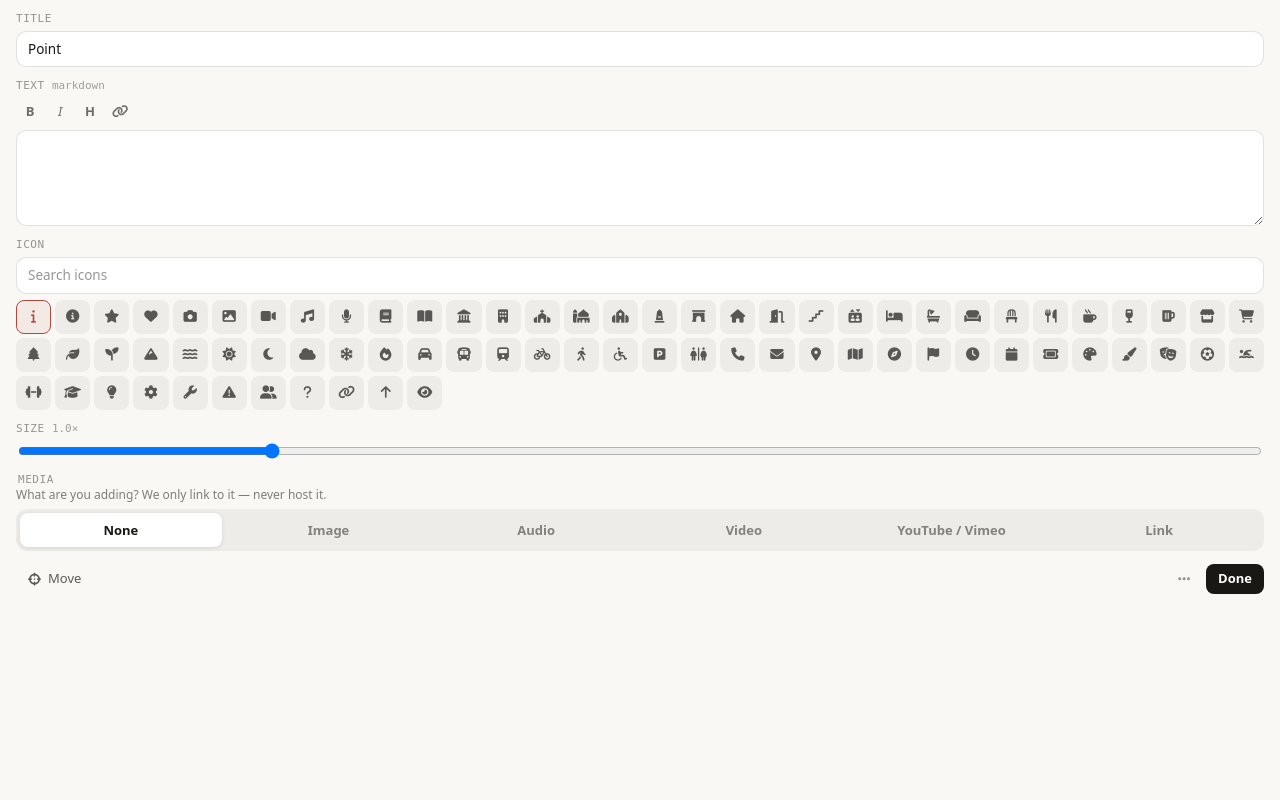
Test: PointEditor move, and the point menu › keeps Duplicate and Delete behind a ⋯ menu
Expected: the button "Duplicate" is not shown
Expected: the button "Delete" is not shown
What coordinates should you click on to do the following:
click the button named "Point actions"
I would click on:
 (1184, 579)
Its box is [1168,563,1200,595].
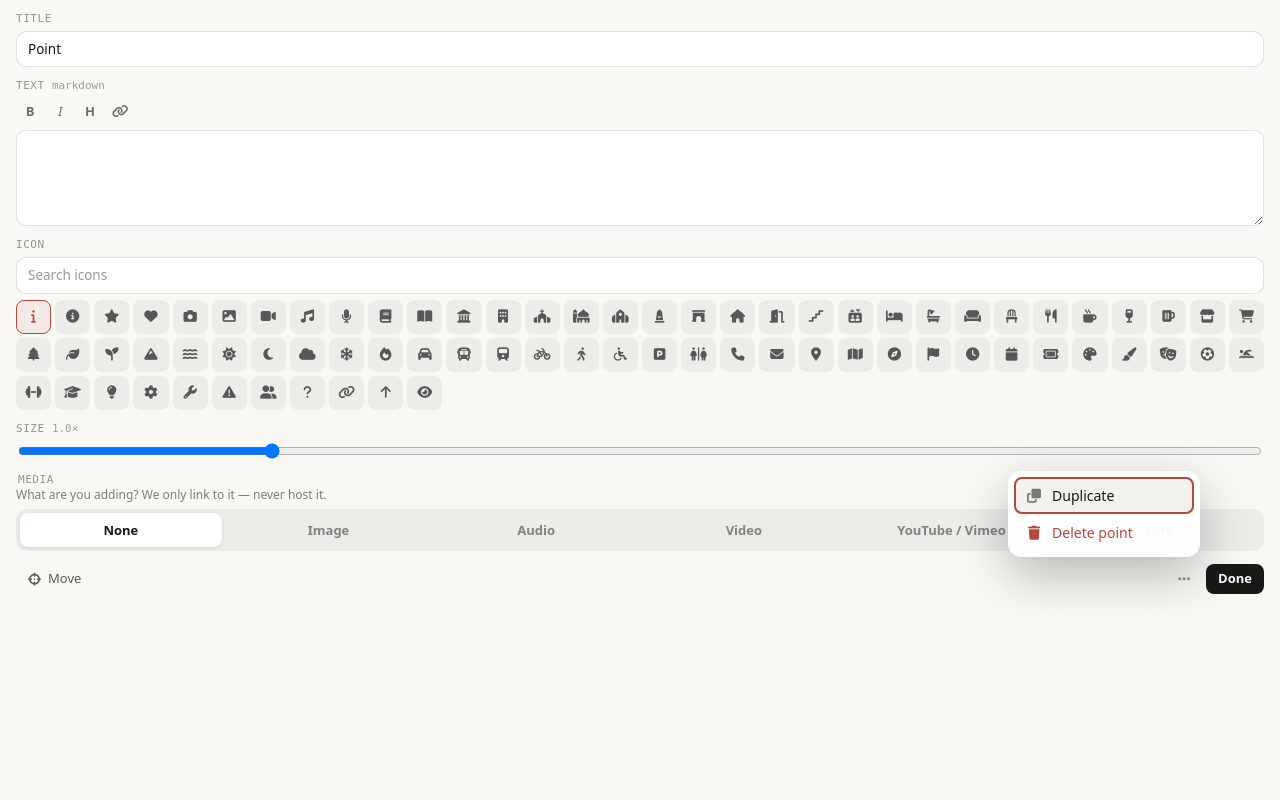
Expected: the button named "Point actions" is expanded, [1168,563,1200,595]
Expected: the menu items read "Duplicate", "Delete point", in this order
What coordinates should you click on to do the following:
click the menu item "Duplicate"
I would click on:
 (1104, 496)
Its box is [1014,477,1194,514].
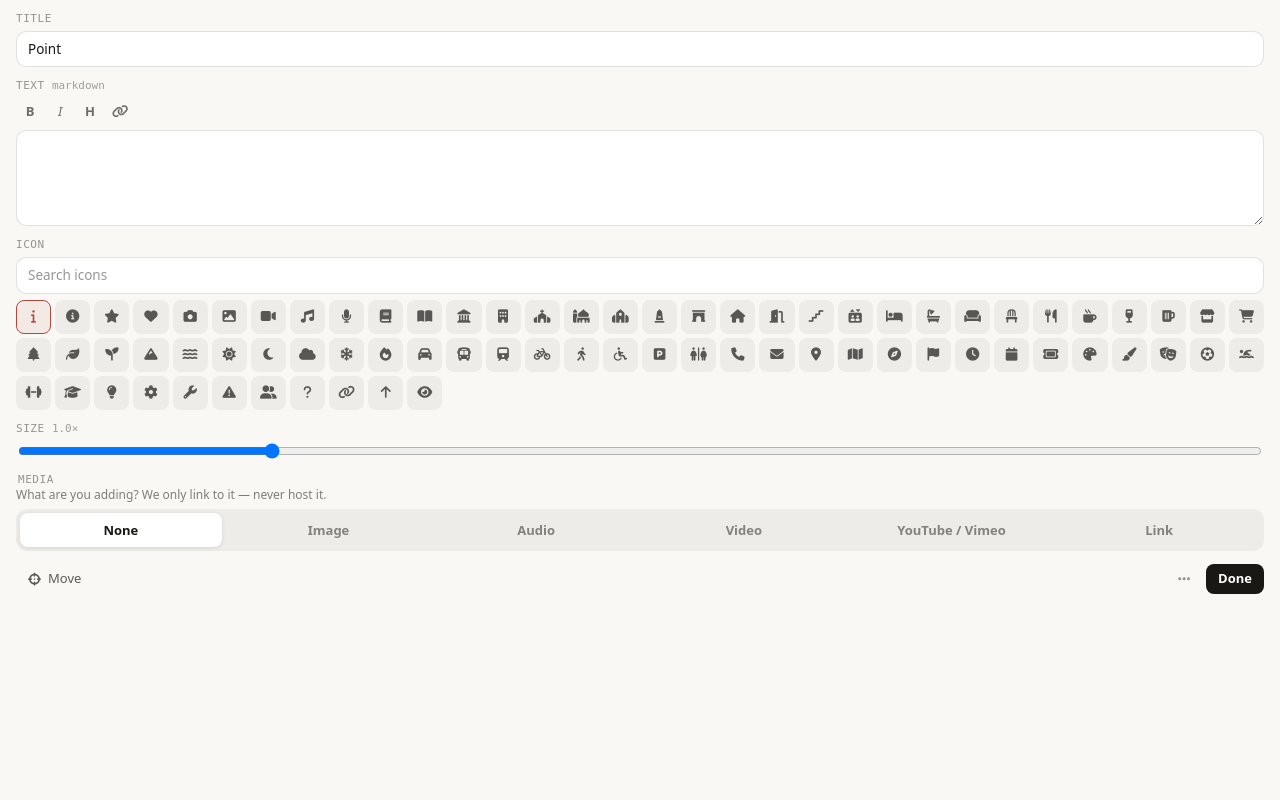
Expected: the menu is gone
What coordinates should you click on to do the following:
click the button named "Point actions"
I would click on:
 (1184, 579)
Its box is [1168,563,1200,595].
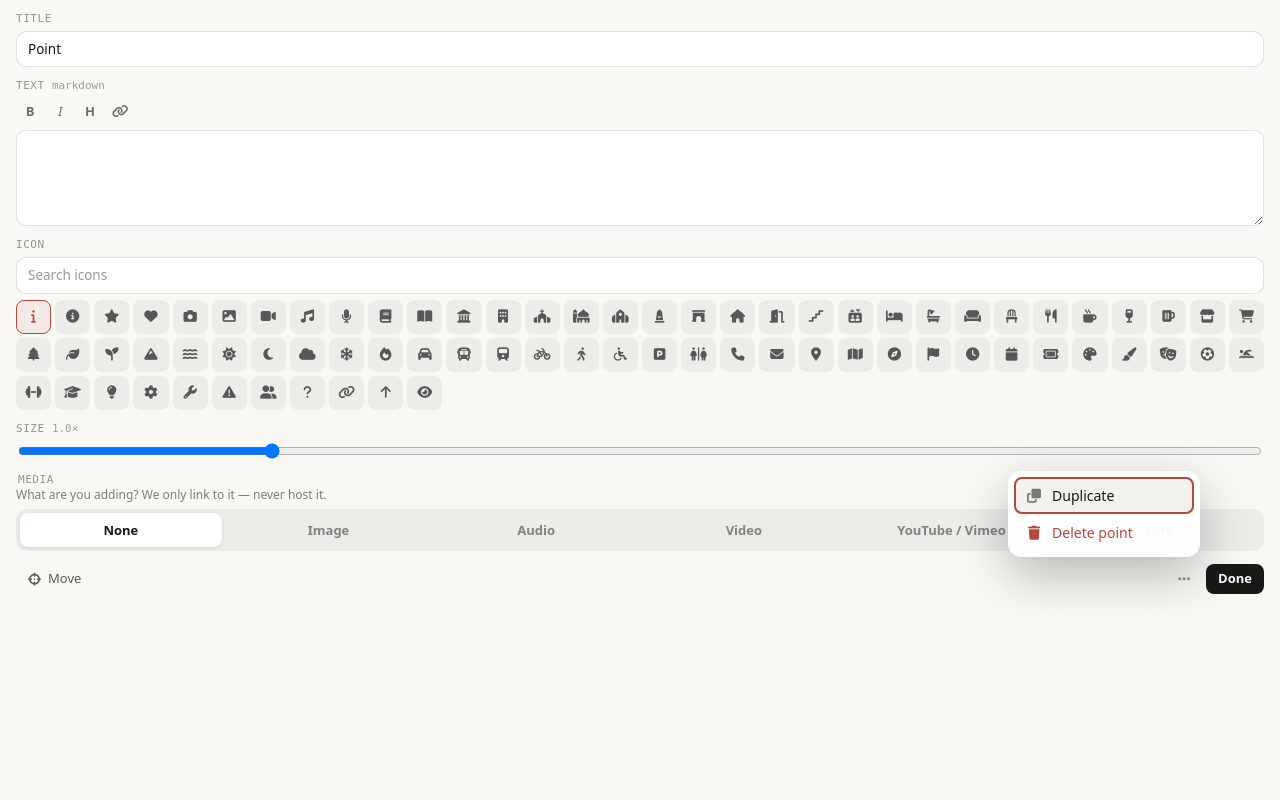
What coordinates should you click on to do the following:
click the menu item "Delete point"
I would click on:
 (1104, 533)
Its box is [1014,514,1194,551].
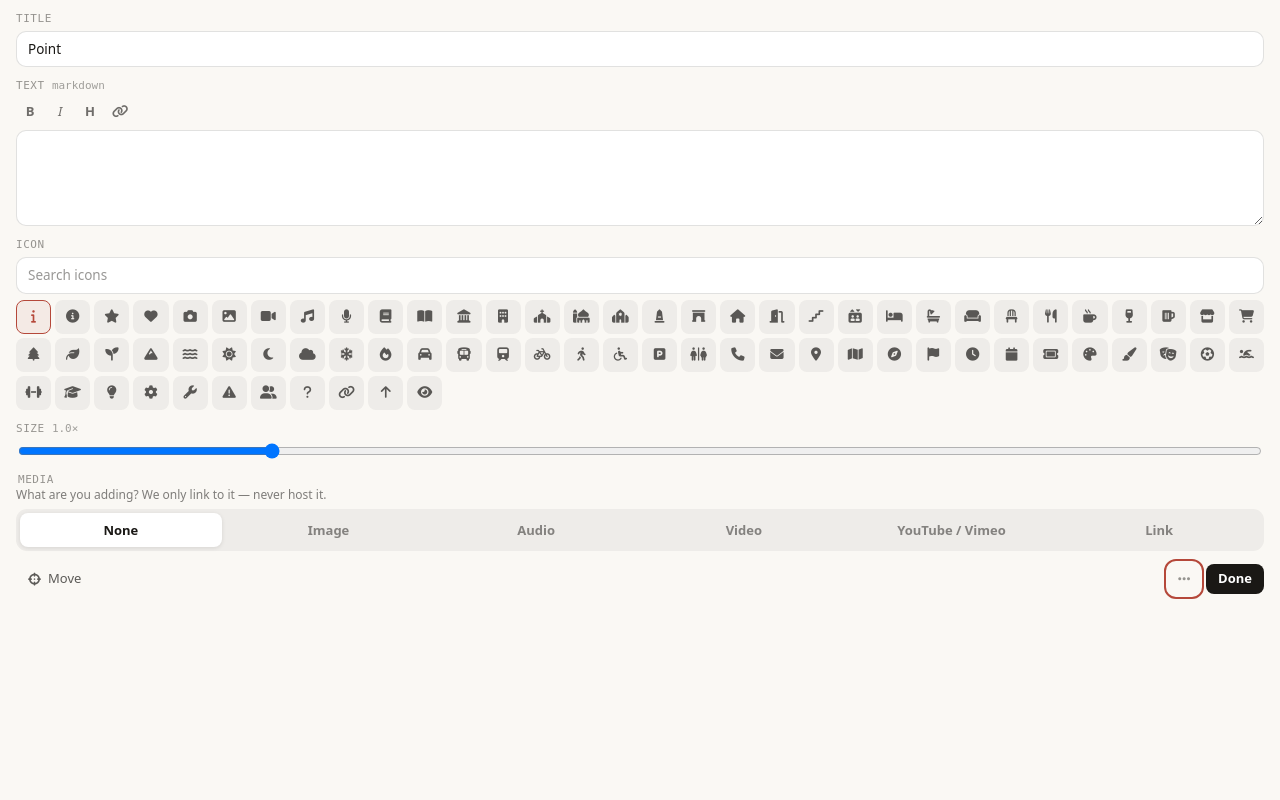
Expected: the menu is gone
